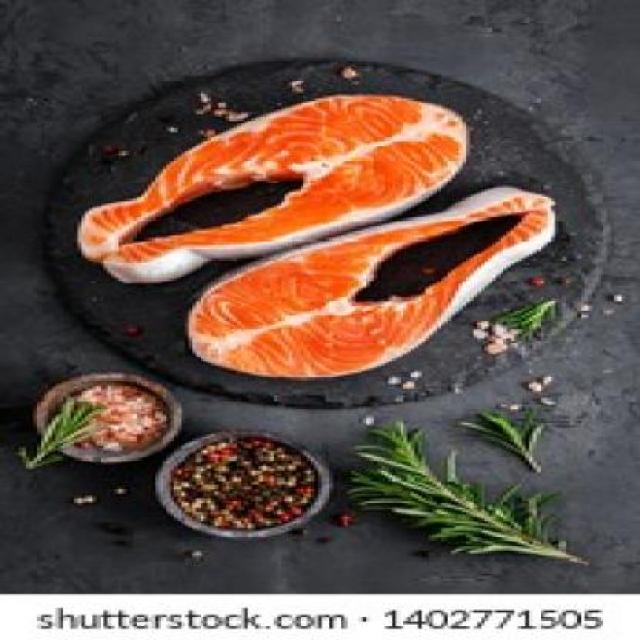salmon: (74, 88, 458, 288), (155, 192, 570, 371)
